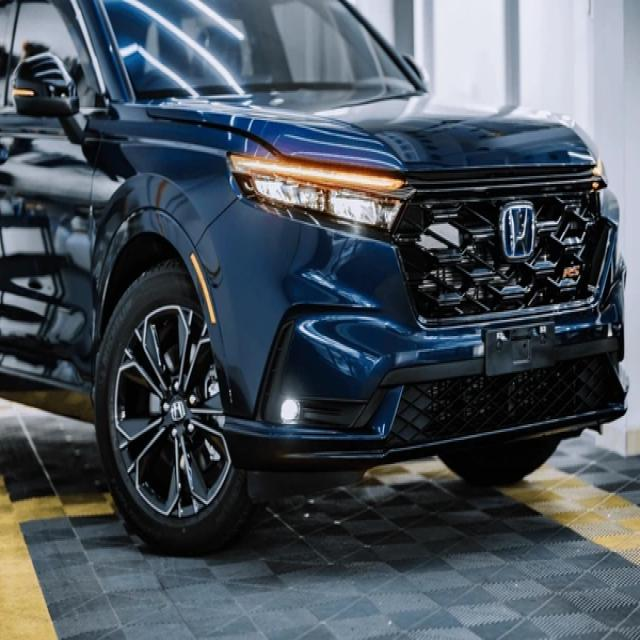honda: (496, 200, 539, 264)
